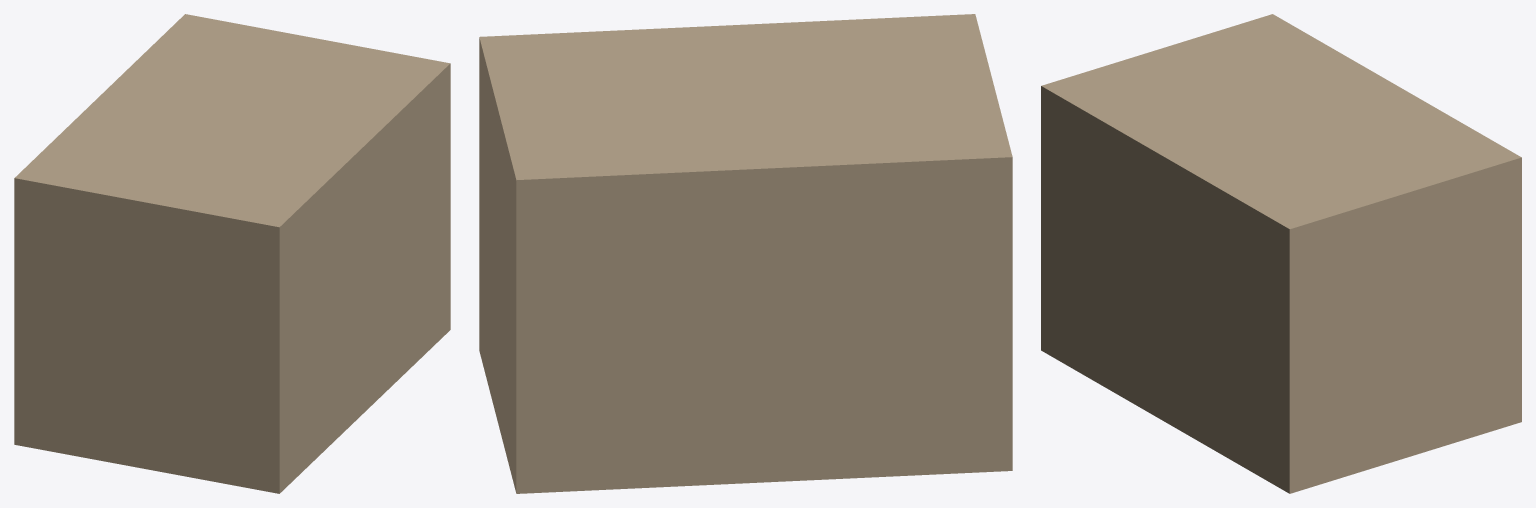
File: bld_55879654.dae
3 views of the same model, side by side, from view 1: azimuth 30°, elevation 25°; view 2: azimuth 150°, elevation 25°; view 3: azimuth 270°, elevation 25° (orthographic). The views are drawn at different scales.
Parts seen in each view (by area): view 1: Crouch View; view 2: Crouch View; view 3: Crouch View.
Boxes of the visible parts, bbox=[...] form: Crouch View: bbox=[14, 14, 450, 493]; Crouch View: bbox=[479, 14, 1012, 493]; Crouch View: bbox=[1041, 14, 1521, 493].
Bounding box in the file's own units: 13.96 × 13.17 × 8.
